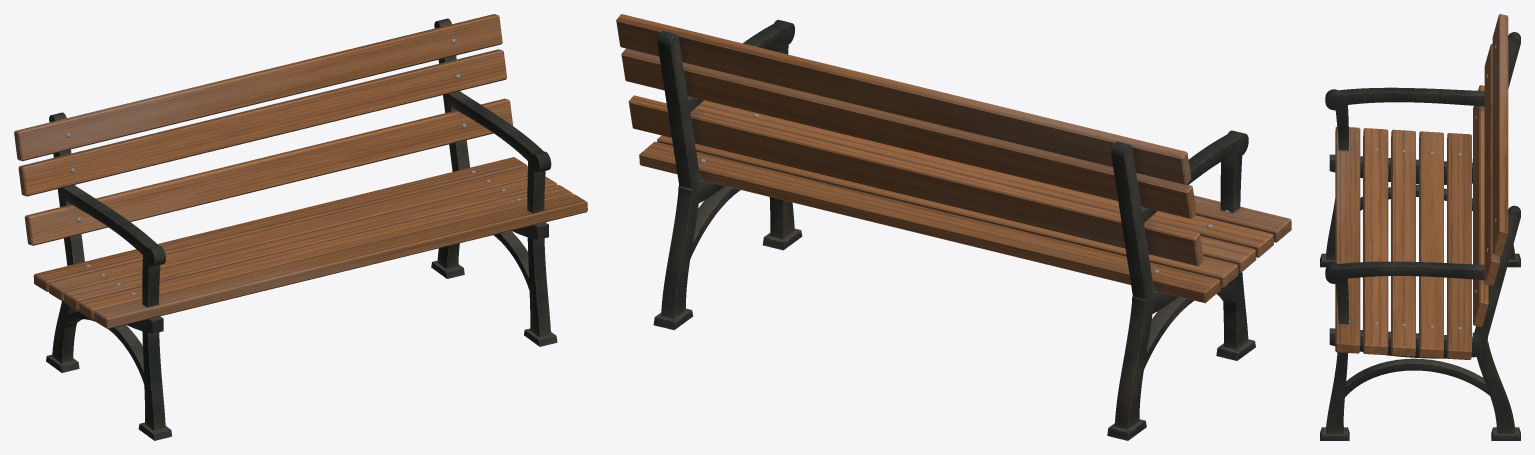
The model's file is park-bench.obj.
The picture shows the model from 3 angles, left to right: view 1: azimuth 30°, elevation 25°; view 2: azimuth 150°, elevation 25°; view 3: azimuth 270°, elevation 25°; orthographic projection. The views are drawn at different scales.
Parts seen in each view (by area): view 1: park-bench_body; view 2: park-bench_body; view 3: park-bench_body.
Boxes of the visible parts, <box> form: park-bench_body: <box>14,14,587,440</box>; park-bench_body: <box>616,14,1291,440</box>; park-bench_body: <box>1320,14,1520,440</box>.
Bounding box in the file's own units: 1.8 × 0.8843 × 0.704.
Materials: 1 (1 with a texture image).
